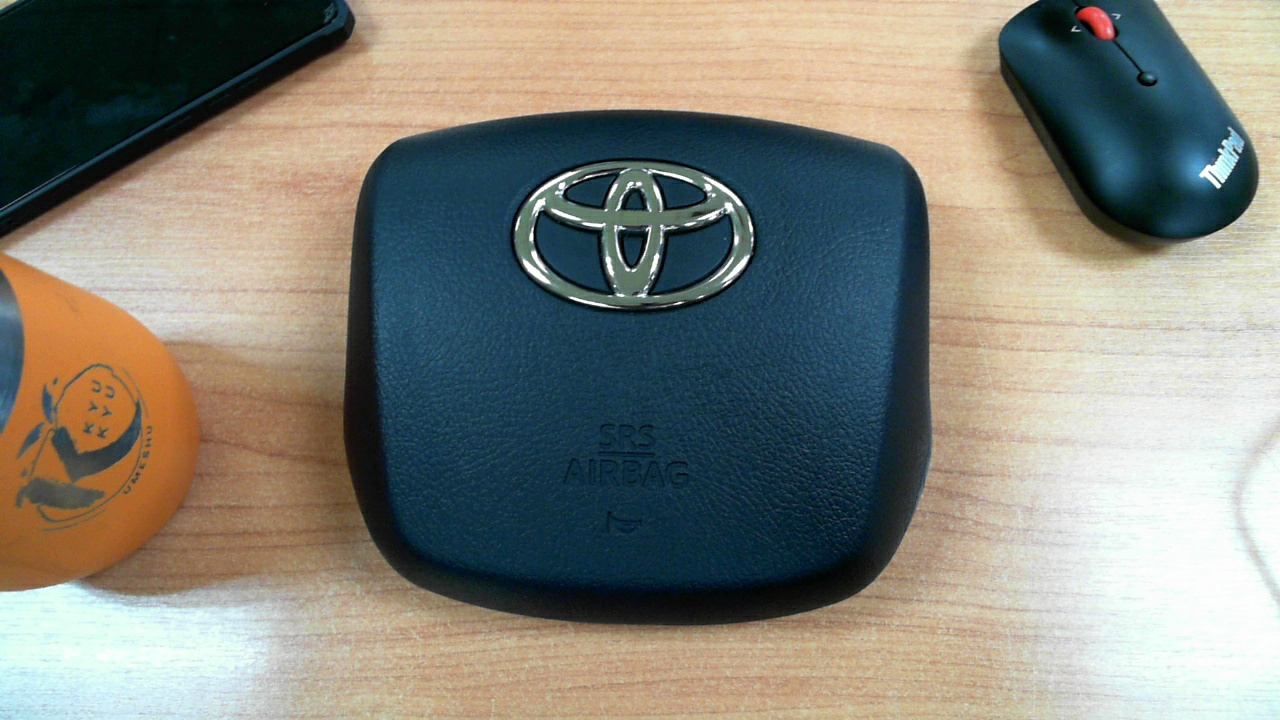Airbag: (298, 76, 973, 643)
